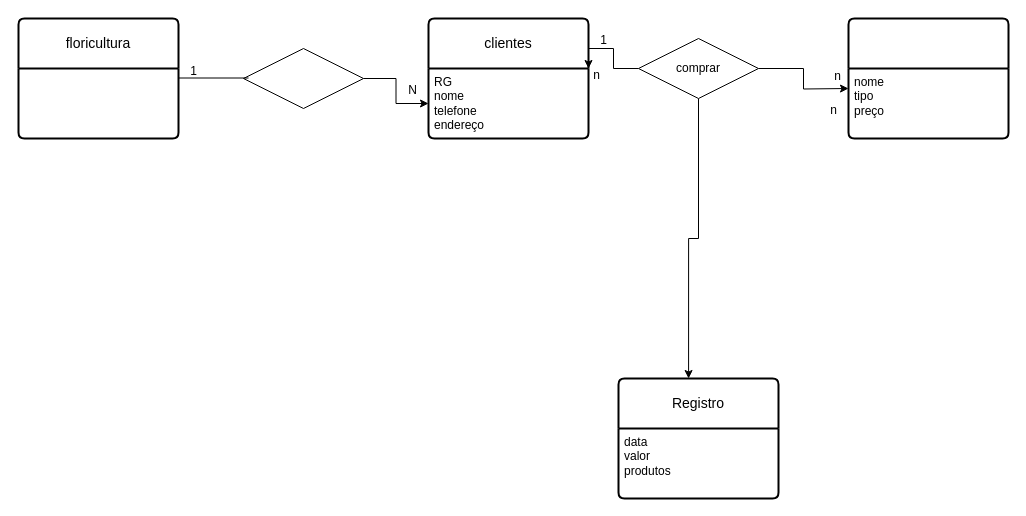
This 1026x516 diagram has some shape labels left out. Here are the shapes that lost their labels. From the top down, the box of each, then its label:
(242, 48, 364, 108): tem
(847, 17, 1009, 139): produtos
